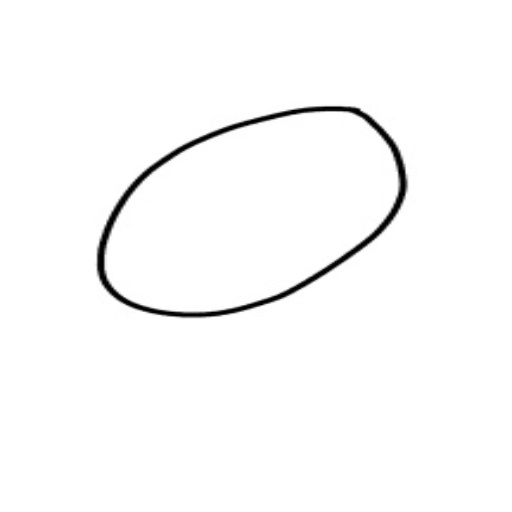circle: (89, 104, 418, 318)
